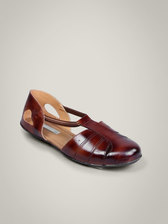shoes: (17, 91, 147, 170)
